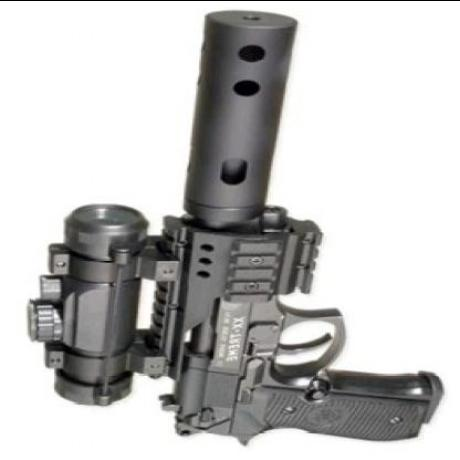weapon: (32, 10, 441, 446)
